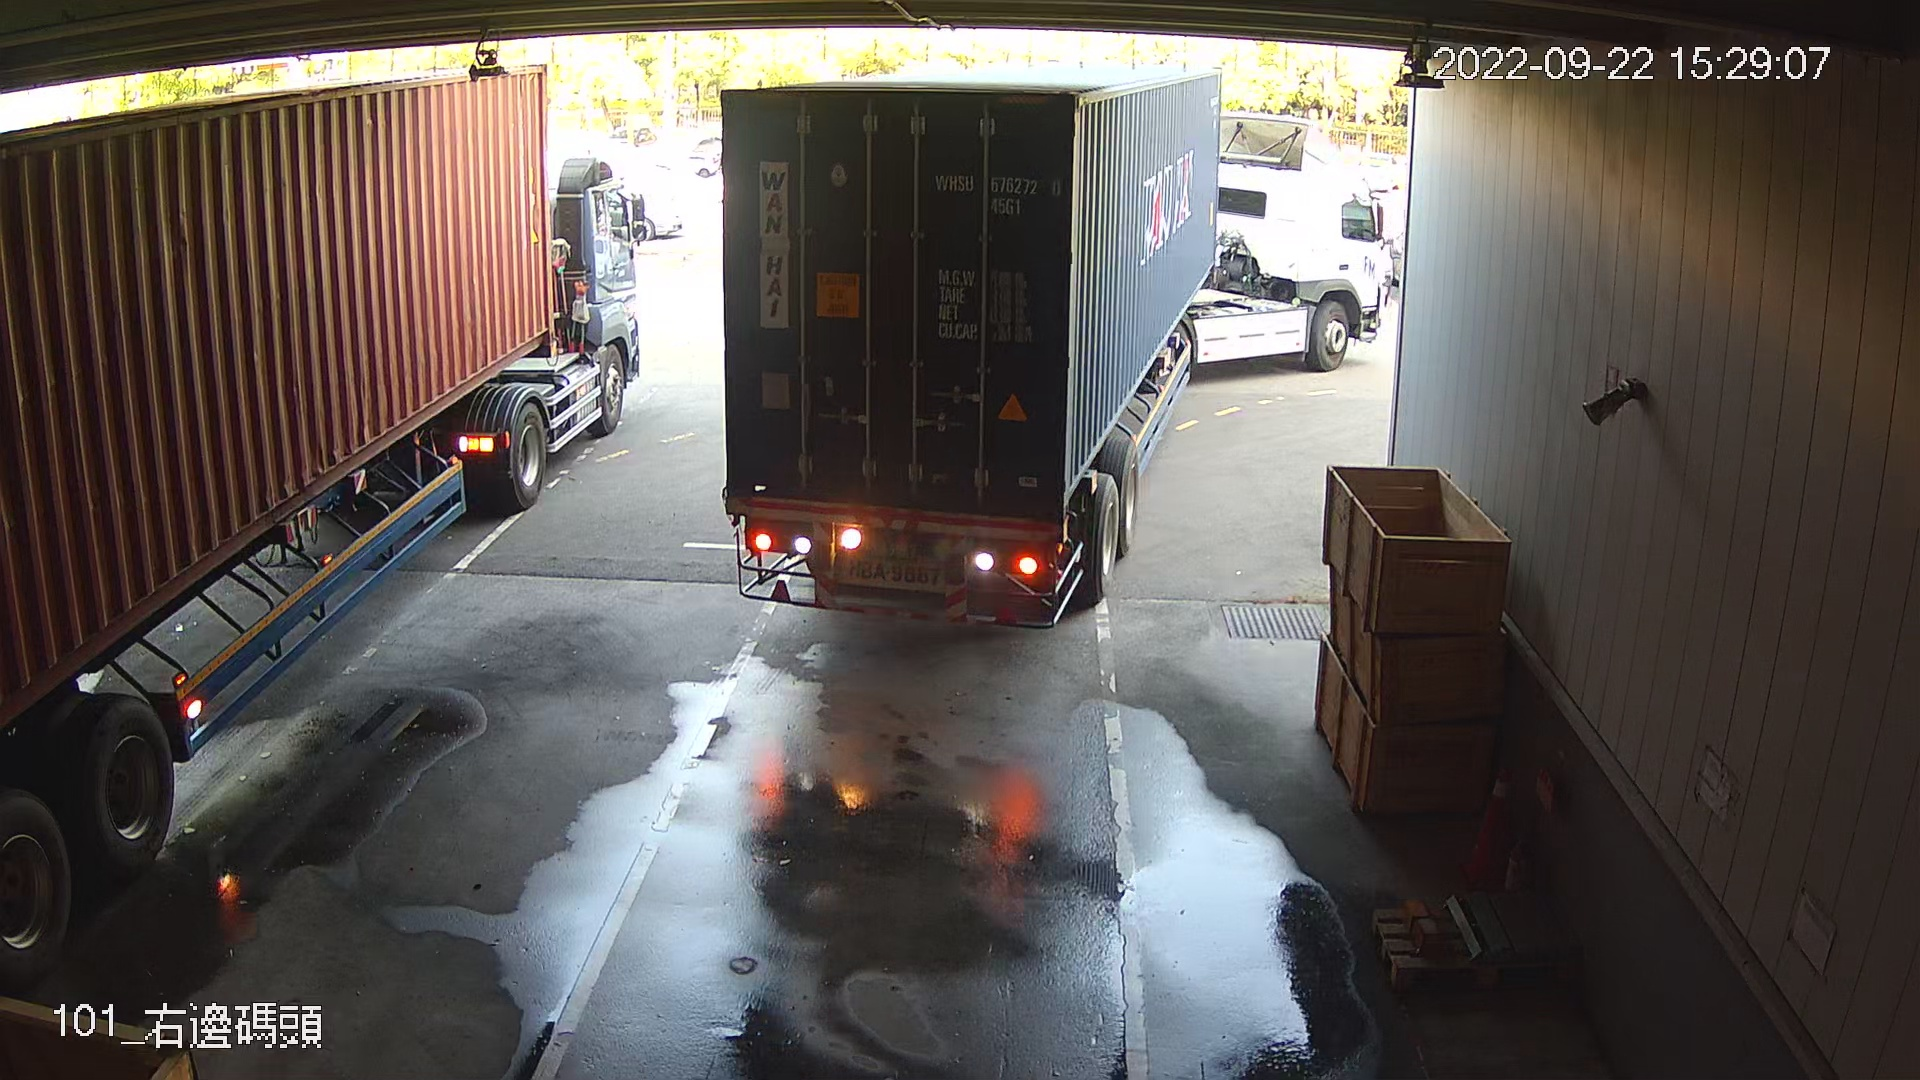container: (923, 164, 1067, 224)
